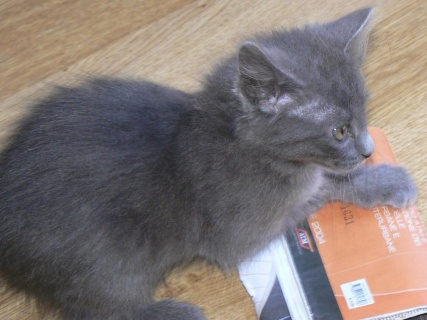Cat: (1, 3, 418, 318)
